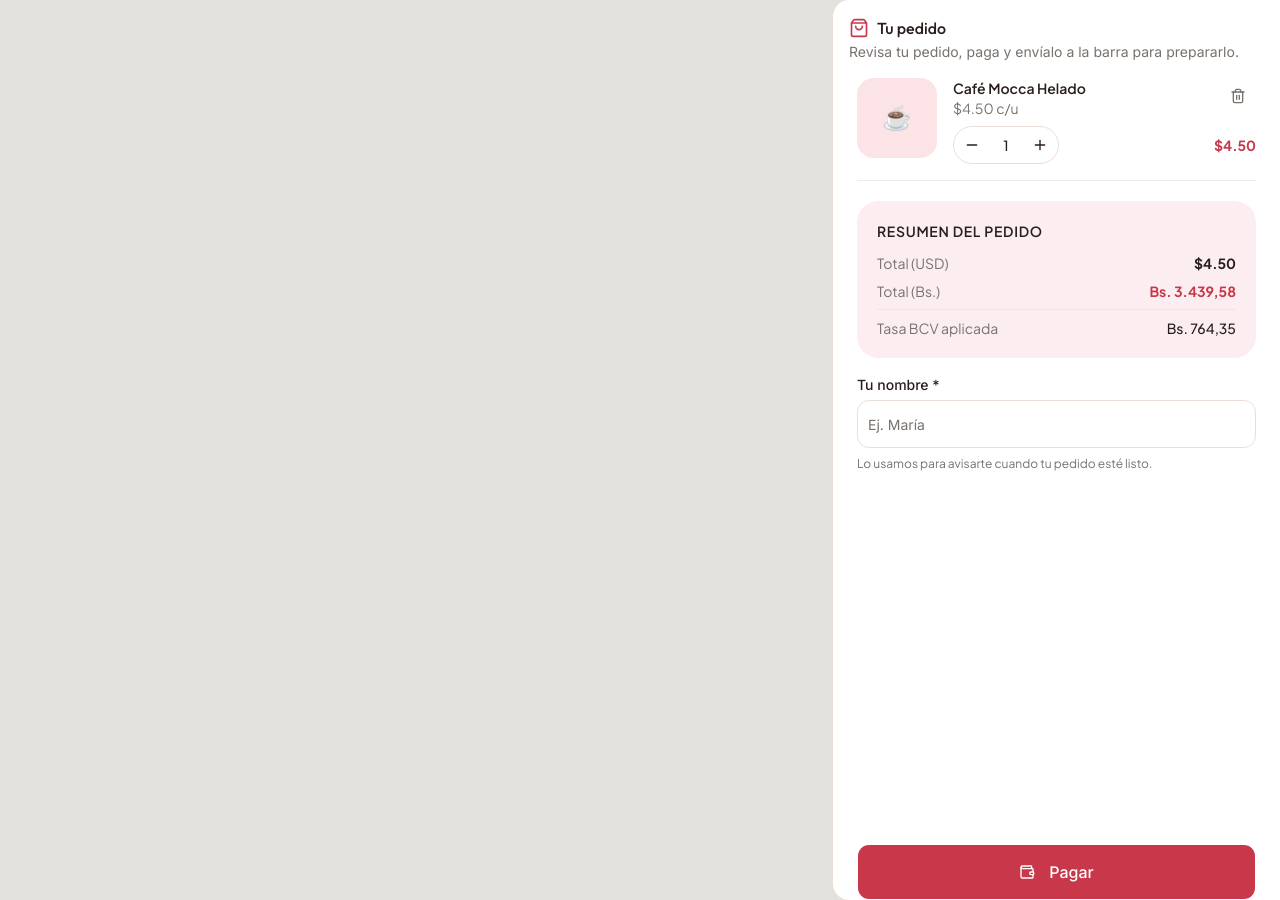
CartDrawer › muestra el botón Pagar y despliega el selector de métodos de pago
Check: the button "pago móvil" is not shown
Check: the text "método de pago" is not shown
Click the button "Pagar" at (1056,872), box [857,844,1256,899]
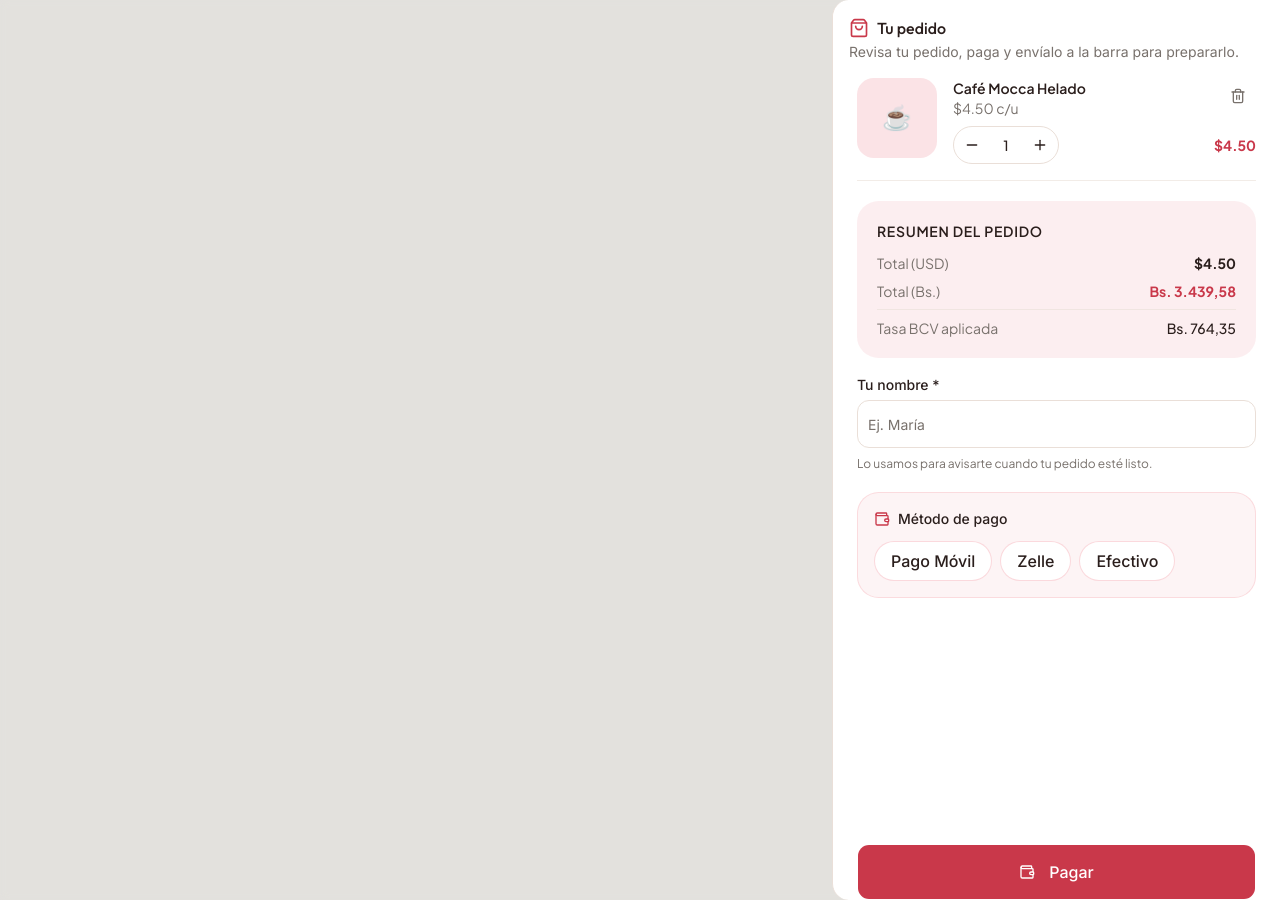
Check: the button "Pago Móvil" is shown, box [874,541,992,581]
Check: the button "Efectivo" is shown, box [1080,541,1176,581]
Check: the text "Método de pago" is shown, box [874,510,1007,527]
